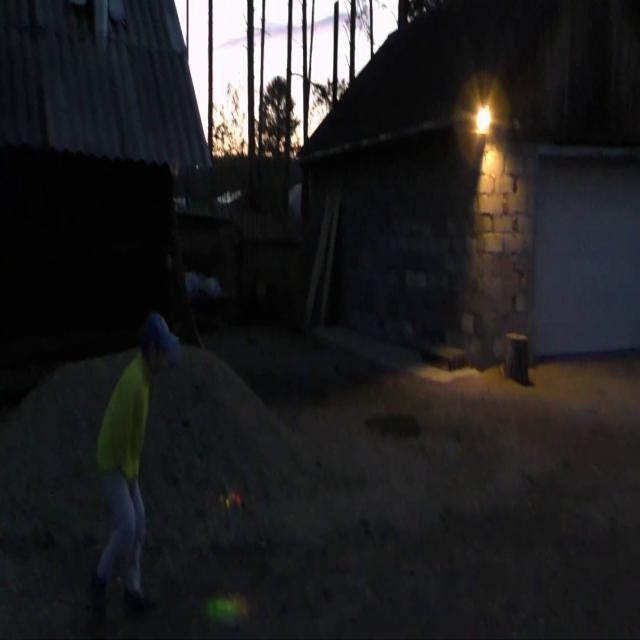Drons: (213, 480, 250, 516)
